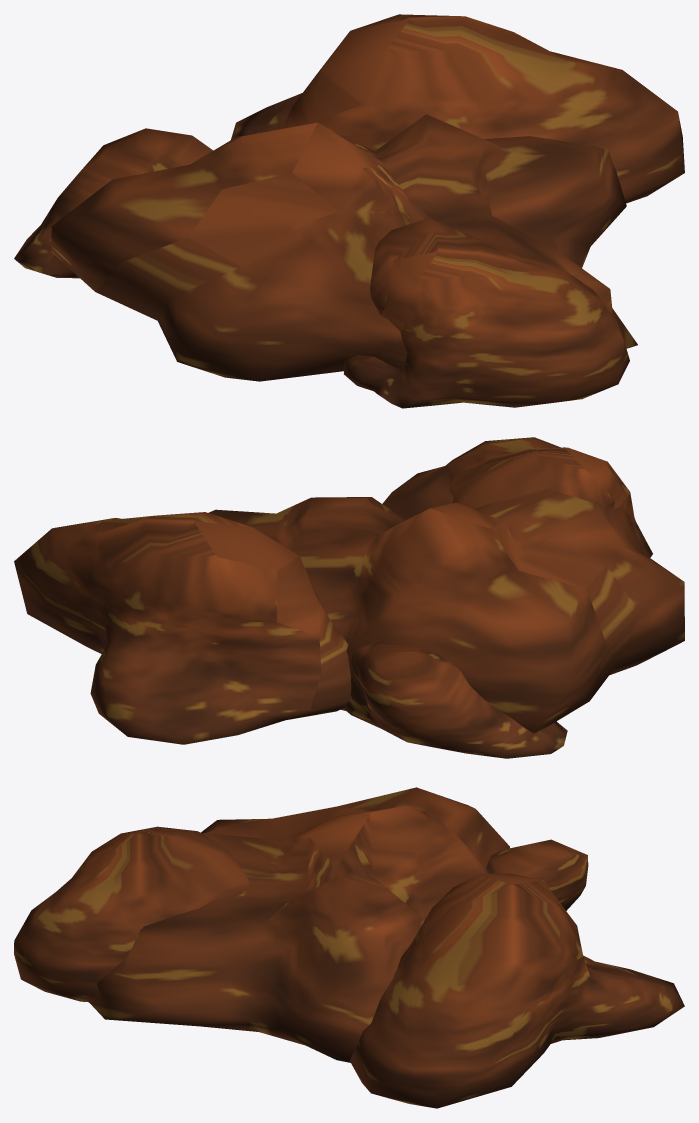
Rendered from bogiron.glb.
The picture shows the model from 3 angles, top to bottom: view 1: azimuth 30°, elevation 25°; view 2: azimuth 150°, elevation 25°; view 3: azimuth 270°, elevation 25°; orthographic projection. The views are drawn at different scales.
Visible parts, largest first — view 1: bogiron; view 2: bogiron; view 3: bogiron.
Boxes of the visible parts, x1,y1,x2,y2 form: bogiron: (14, 14, 684, 408); bogiron: (14, 437, 684, 758); bogiron: (14, 787, 684, 1108).
Size of the model in its own units: 0.4057 by 0.0972 by 0.4334.
Materials: 1 (1 with a texture image).
